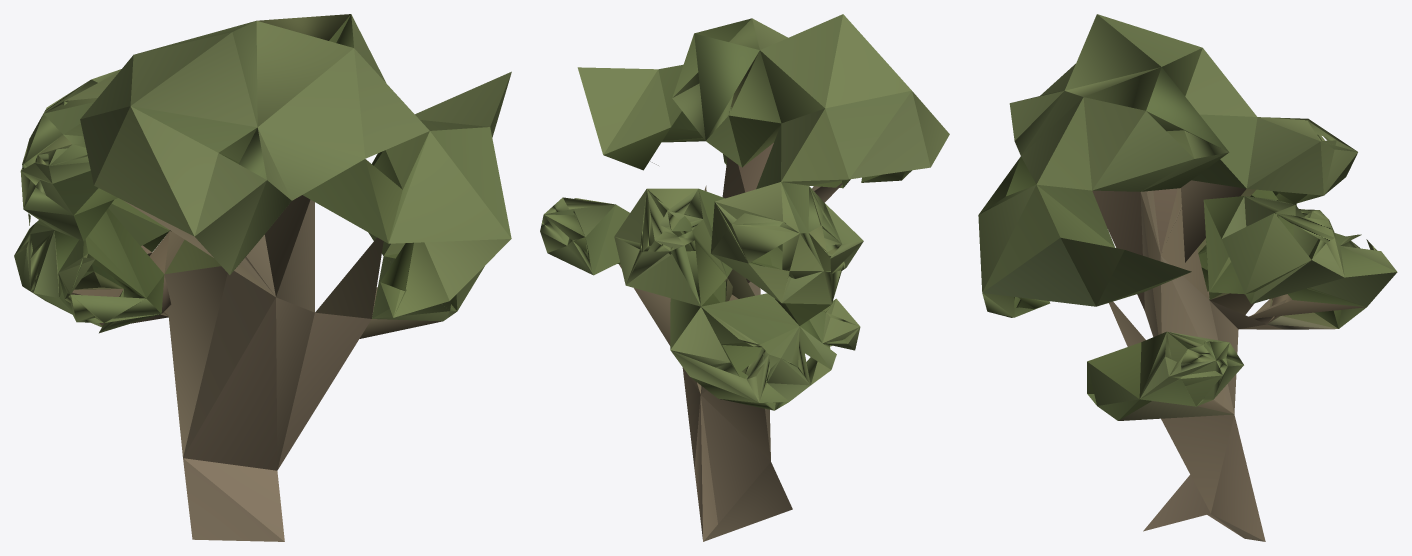
File: oak-coast-live-young.glb
3 renders of one model, left to right at view 1: azimuth 30°, elevation 25°; view 2: azimuth 150°, elevation 25°; view 3: azimuth 270°, elevation 25°, orthographic. The views are drawn at different scales.
Parts seen in each view (by area): view 1: oak-coast-live-young_LOD0; view 2: oak-coast-live-young_LOD0; view 3: oak-coast-live-young_LOD0.
Part boxes in pixels (box(x1,y1,x2,y2)): oak-coast-live-young_LOD0: box(14, 14, 511, 541); oak-coast-live-young_LOD0: box(540, 14, 949, 541); oak-coast-live-young_LOD0: box(978, 14, 1397, 541).
Size of what is drawn, in the model's own units: 3.84 by 4.98 by 3.79.
